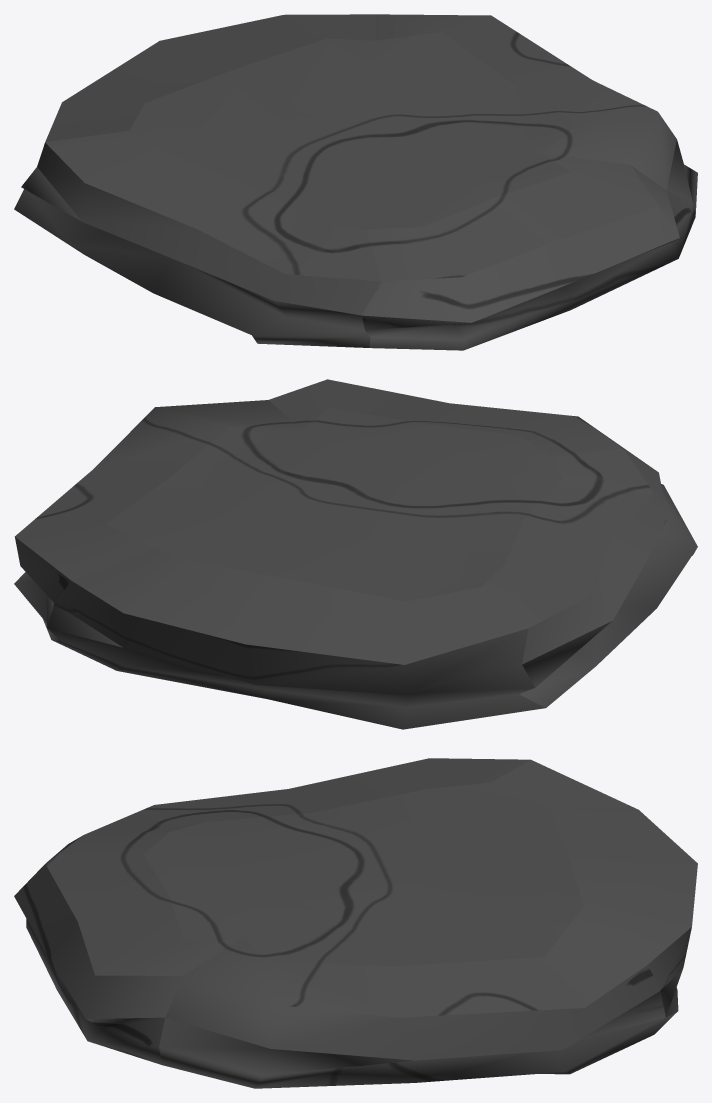
The model's file is Mesh_PlatformRock2_AM.fbx.
3 views of the same model, one above another, from view 1: azimuth 30°, elevation 25°; view 2: azimuth 150°, elevation 25°; view 3: azimuth 270°, elevation 25° (orthographic). The views are drawn at different scales.
Visible parts, largest first — view 1: pCube12; view 2: pCube12; view 3: pCube12.
Boxes of the visible parts, x1,y1,x2,y2 form: pCube12: [14, 14, 697, 350]; pCube12: [14, 379, 697, 729]; pCube12: [14, 758, 697, 1088].
Bounding box in the file's own units: 492 × 79.27 × 512.
